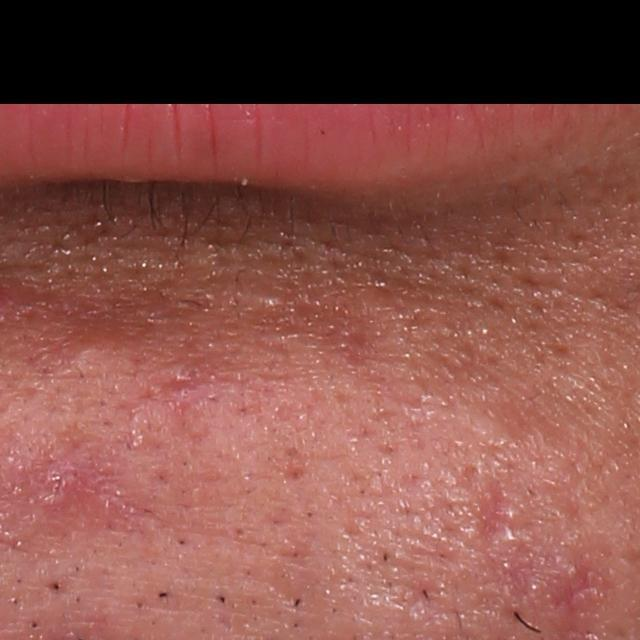atrophic_scar: (477, 476, 513, 557)
papule: (27, 460, 82, 509)
